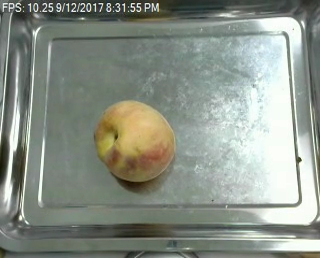Peach: (95, 98, 176, 181)
